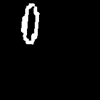chain: (21, 4, 38, 43)
